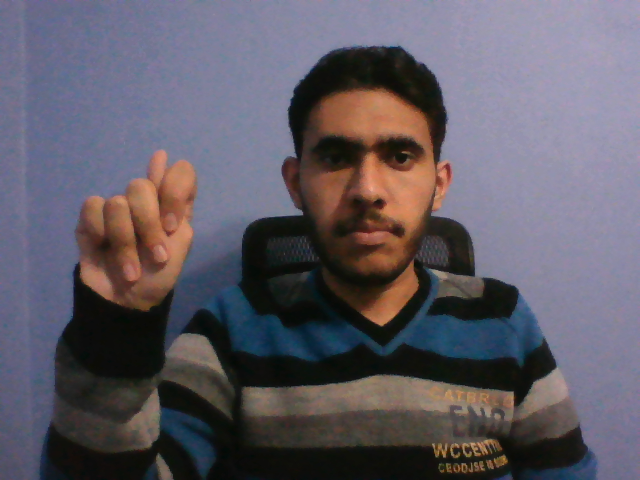T: (68, 151, 201, 319)
